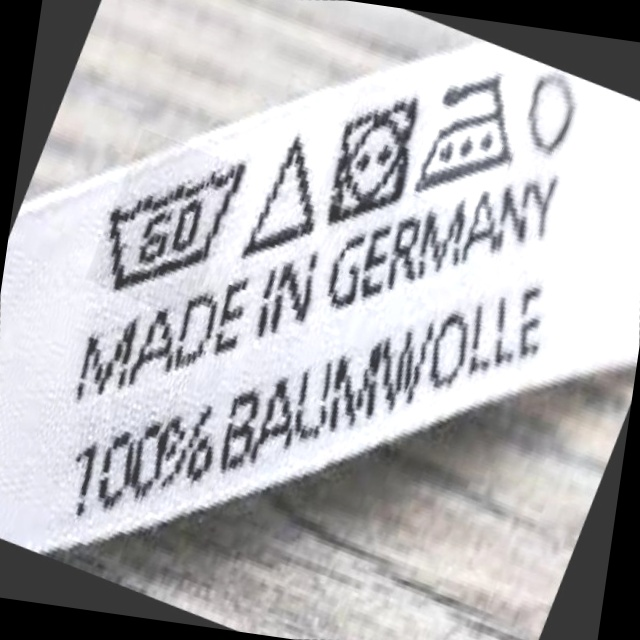60C: (76, 136, 264, 306)
bleach: (232, 122, 336, 268)
iron_high: (403, 56, 534, 207)
tumble_dry_medium: (313, 81, 433, 232)
